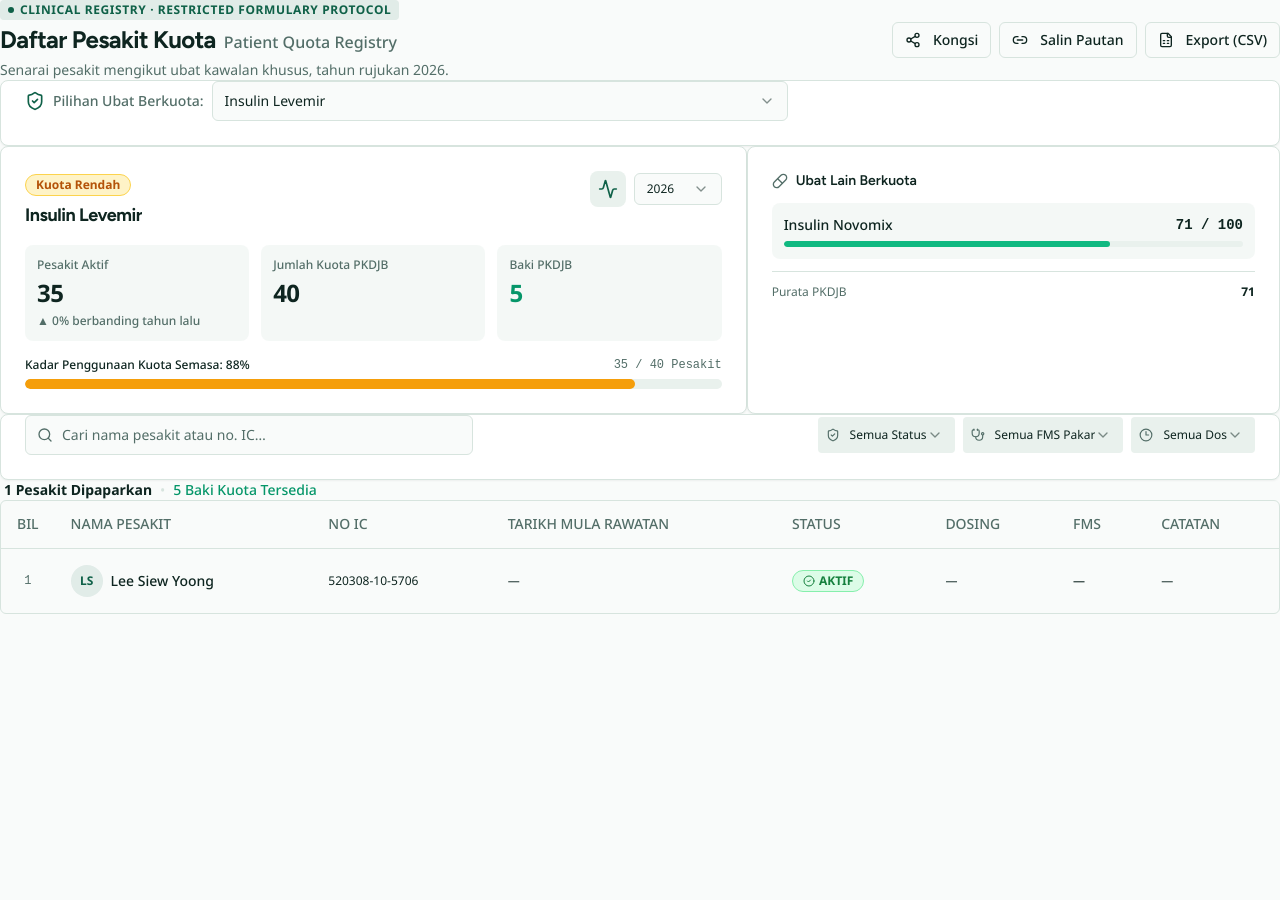
Test: PatientRegistry › logistic_pharmacist — read-only › hides the refill button in the patient history sheet too
The width and height of the screenshot is (1280, 900).
Click the text "Lee Siew Yoong" at (162,581), box [111, 571, 214, 591]
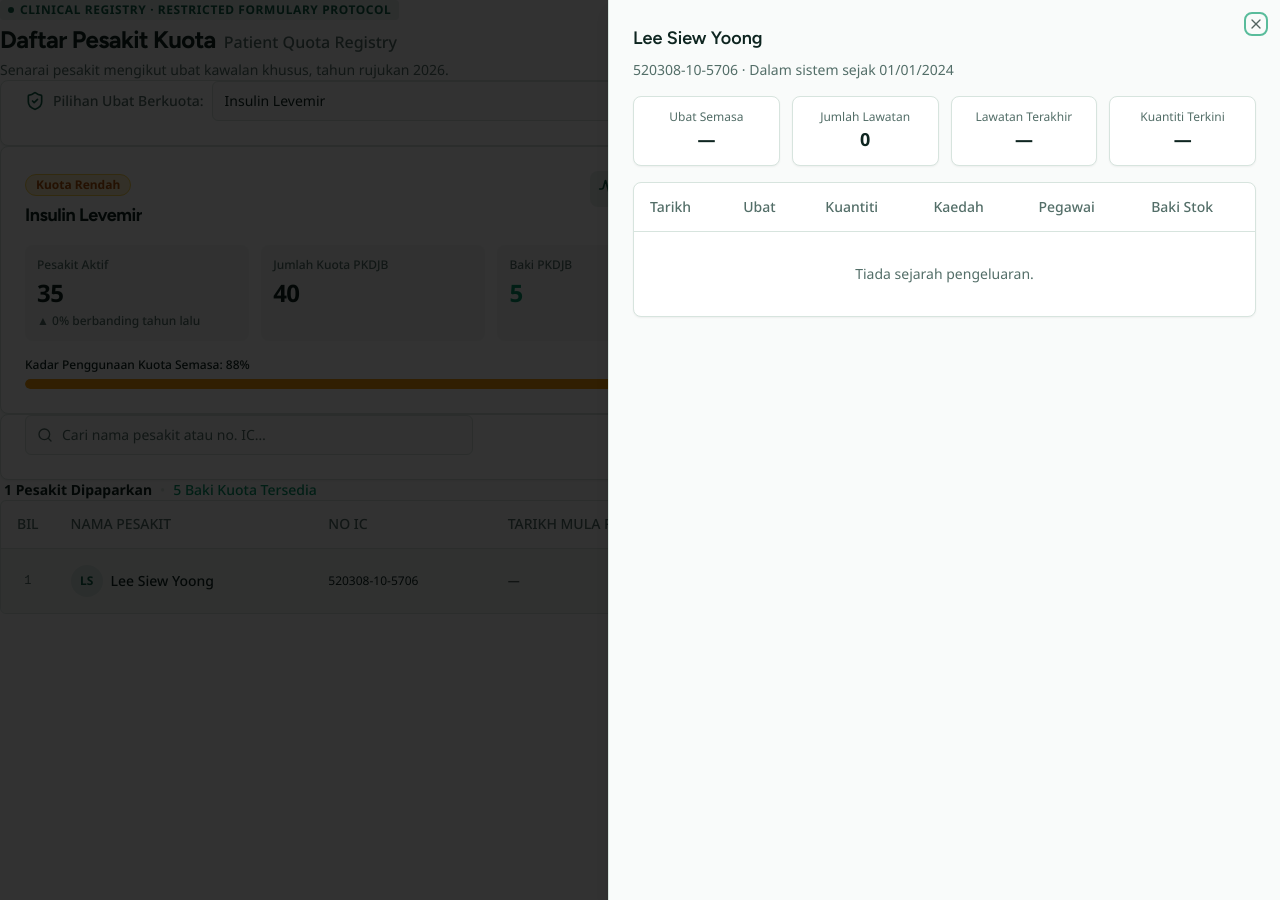
Expected: the text "520308-10-5706 · Dalam sistem sejak 01/01/2024" is shown, [633, 60, 954, 79]
